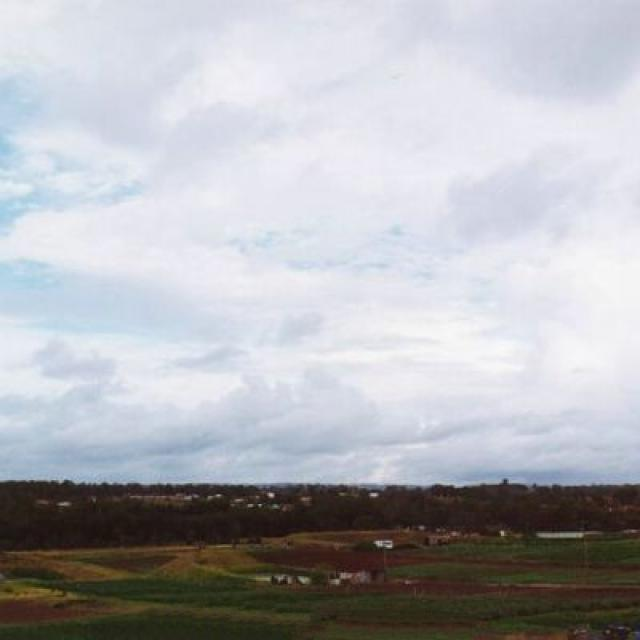Sc: (1, 13, 640, 403)
